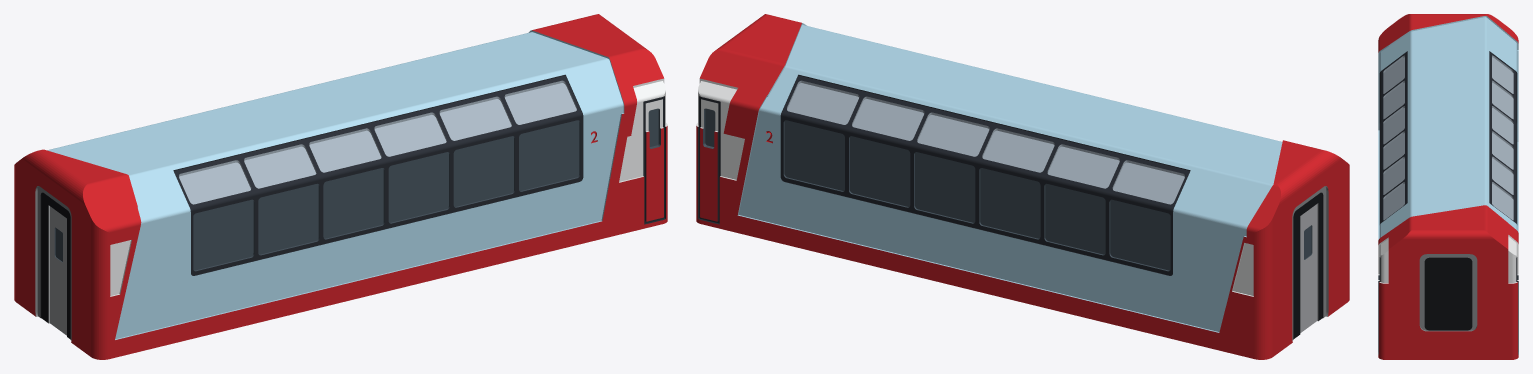
File: glacier.glb
3 views of the same model, side by side, from view 1: azimuth 30°, elevation 25°; view 2: azimuth 150°, elevation 25°; view 3: azimuth 270°, elevation 25° (orthographic). The views are drawn at different scales.
Visible parts, largest first — view 1: gex_glacier; view 2: gex_glacier; view 3: gex_glacier.
Boxes of the visible parts, left/top/right/bottom form: gex_glacier: left=14, top=14, right=667, bottom=359; gex_glacier: left=696, top=14, right=1349, bottom=359; gex_glacier: left=1378, top=14, right=1518, bottom=359.
Bounding box in the file's own units: 150 × 40 × 40.
